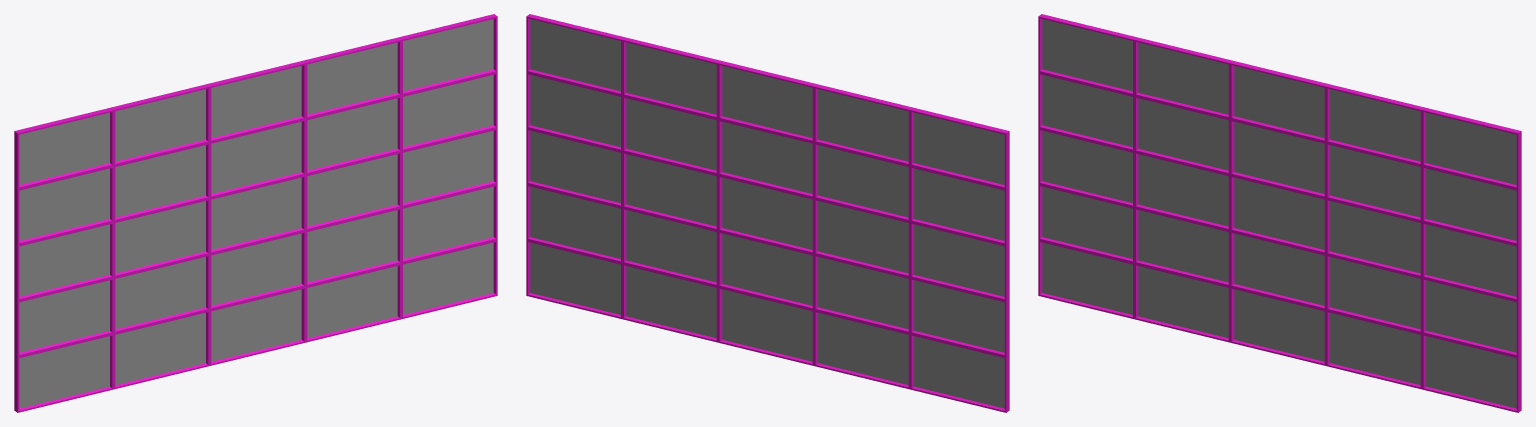
File: glass_wall_simple.FBX
The picture shows the model from 3 angles, left to right: view 1: azimuth 30°, elevation 25°; view 2: azimuth 150°, elevation 25°; view 3: azimuth 330°, elevation 25°; orthographic projection.
Visible parts, largest first — view 1: glass_wall; view 2: glass_wall; view 3: glass_wall.
Part boxes in pixels (box(x1,y1,x2,y2)): glass_wall: box(14, 14, 497, 412); glass_wall: box(526, 14, 1009, 412); glass_wall: box(1038, 14, 1521, 412).
Bounding box in the file's own units: 480 × 5.79 × 267.
